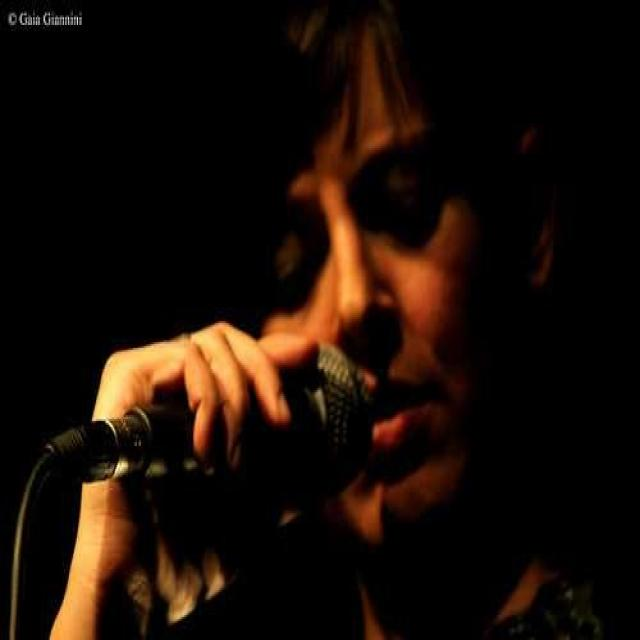microphone: (63, 337, 383, 500)
